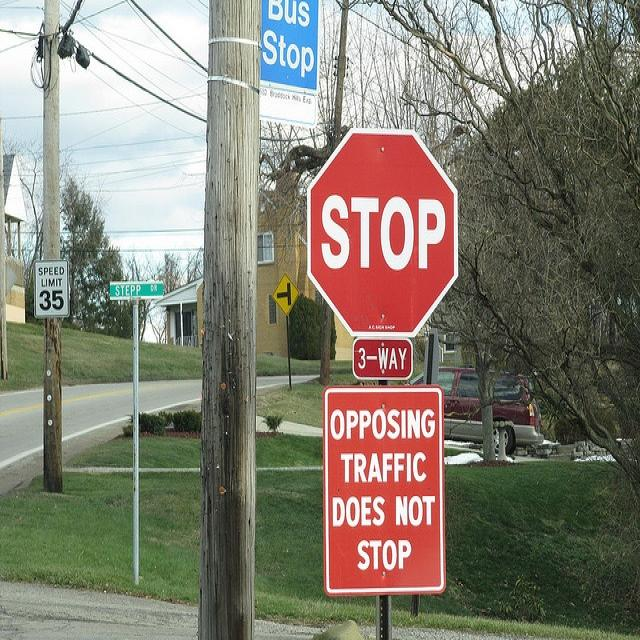car: (437, 363, 542, 453)
pole: (185, 0, 271, 639), (32, 0, 76, 492), (128, 298, 141, 582)
